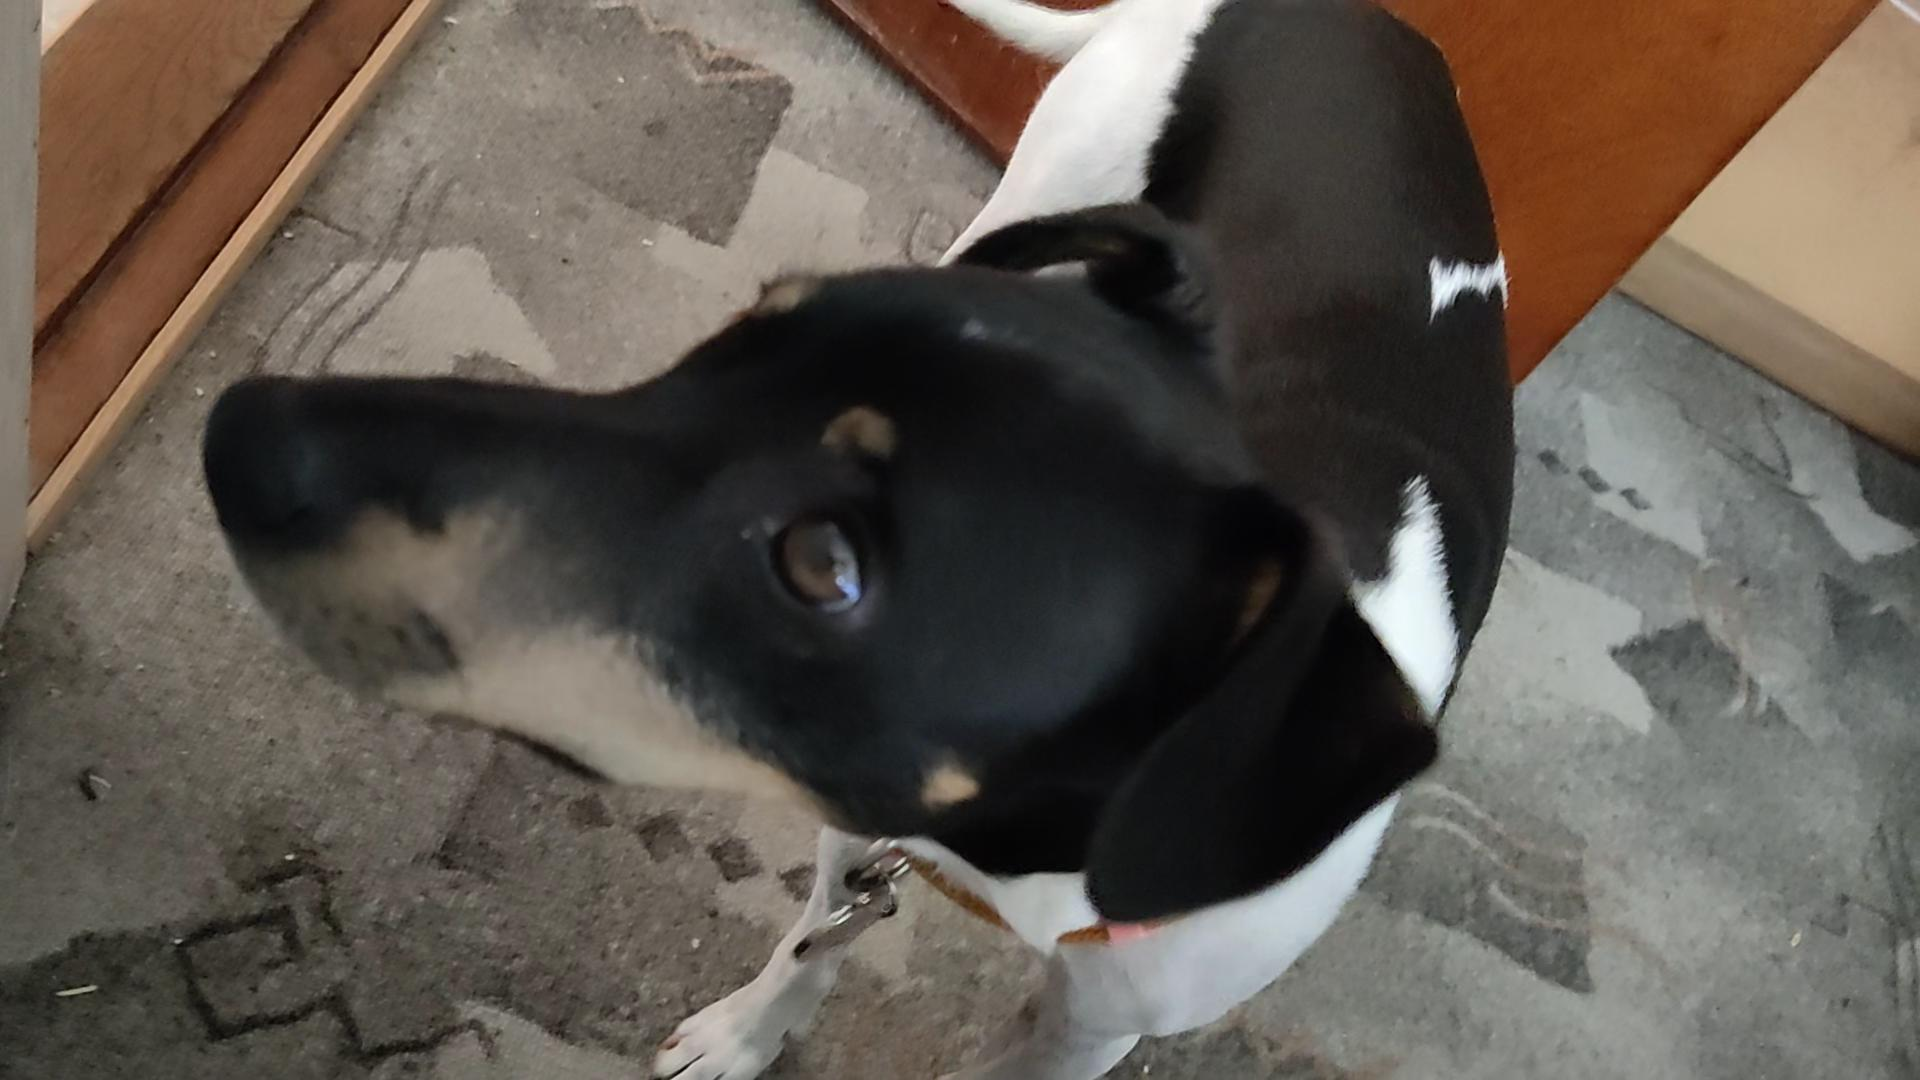Dog: (164, 0, 1539, 1079)
